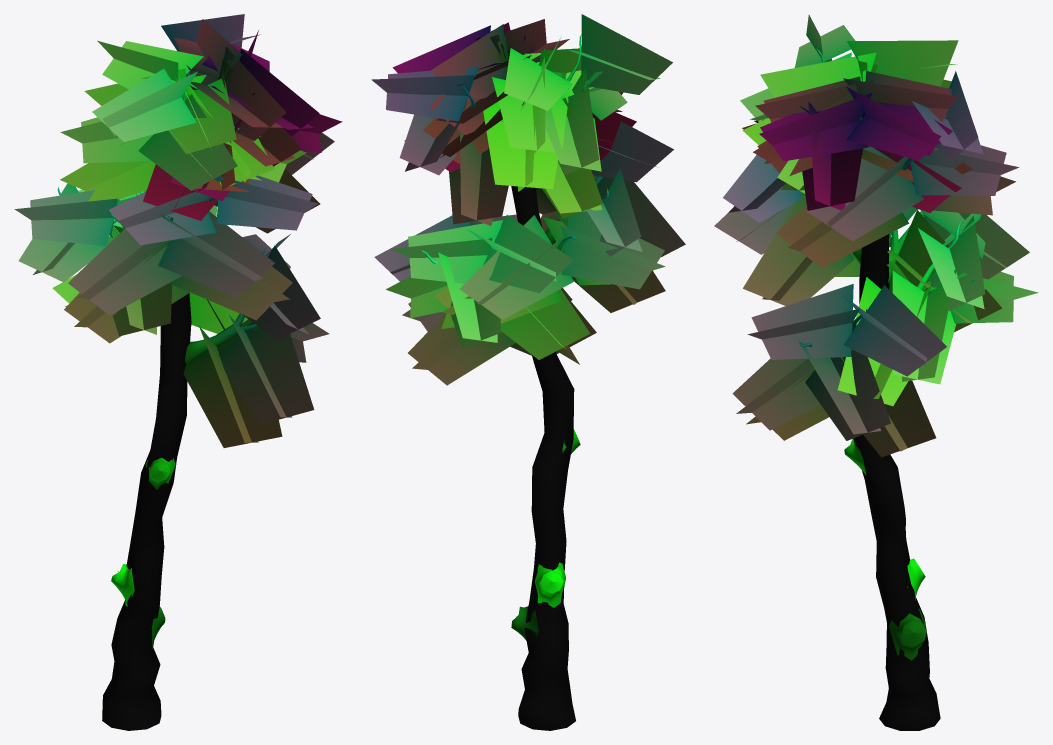
Rendered from M_Realistic7_10.fbx.
3 views of the same model, side by side, from view 1: azimuth 30°, elevation 25°; view 2: azimuth 150°, elevation 25°; view 3: azimuth 270°, elevation 25° (orthographic). The views are drawn at different scales.
Parts seen in each view (by area): view 1: Tree_10; view 2: Tree_10; view 3: Tree_10.
Part boxes in pixels (x1,y1,x2,y2): Tree_10: (14,14,342,730); Tree_10: (371,14,685,730); Tree_10: (714,15,1038,730).
Size of the model in its own units: 1045 by 2360 by 1006.
